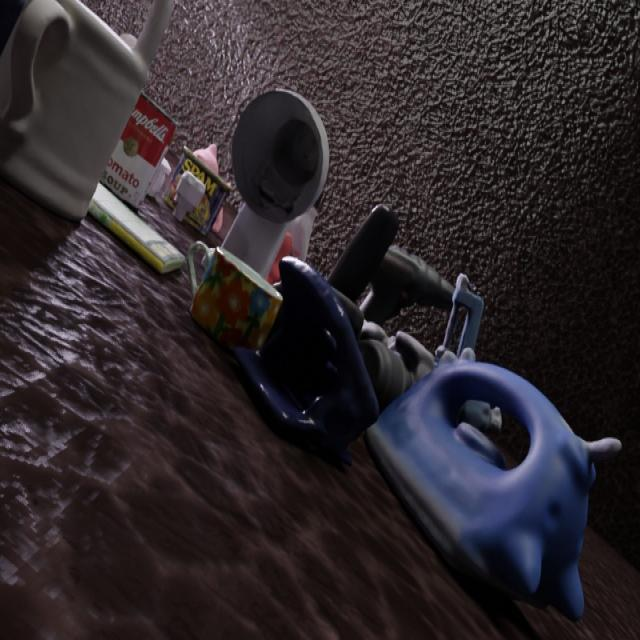Other Objects: (367, 361, 594, 620), (0, 0, 173, 220), (234, 259, 379, 459), (191, 247, 280, 347), (89, 184, 185, 273), (101, 95, 174, 208), (165, 147, 231, 233), (173, 171, 205, 220)
